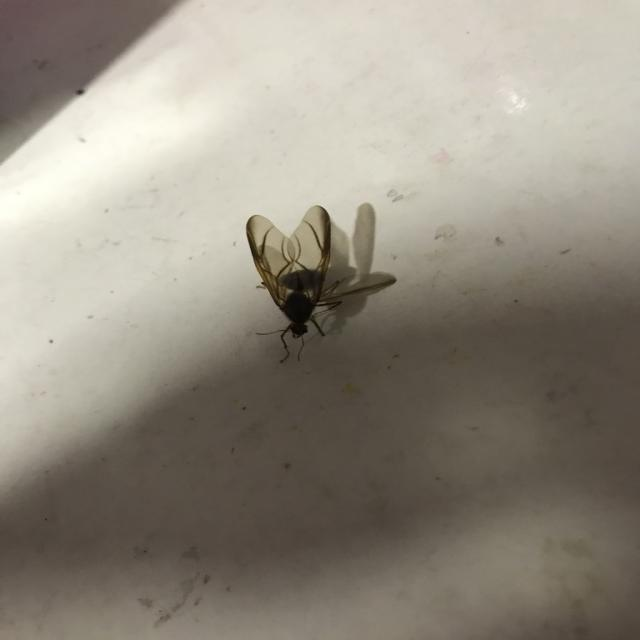Alive-Male-Alate: (245, 204, 342, 364)
